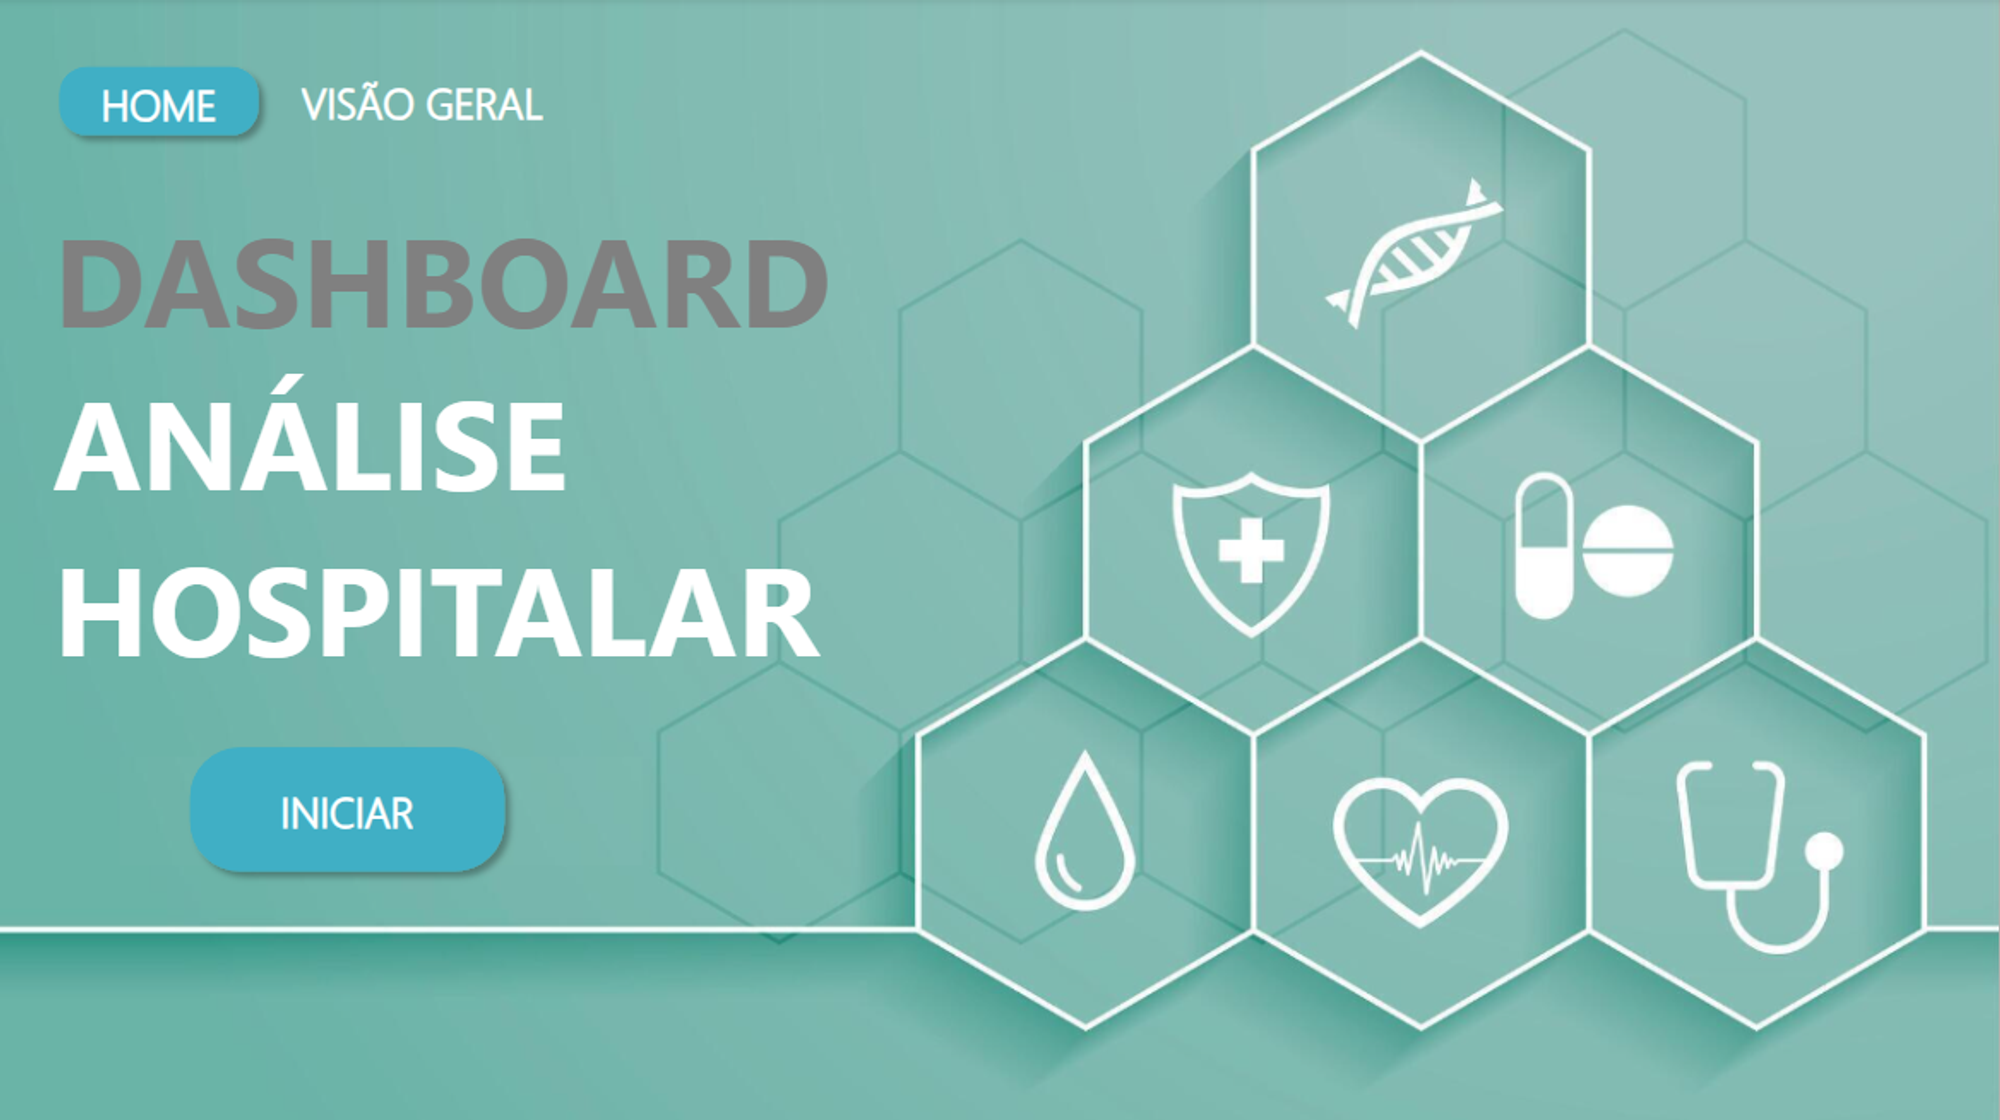

The dashboard page shown, as its layout file describes it:
{"tool":"powerbi","page":{"name":"Home","canvas":[1280,720],"ordinal":0},"visuals":[{"type":"textbox","box":[28.8,120.3,540.2,122],"z":0},{"type":"textbox","box":[28.8,224.5,560.8,231.7],"z":1000},{"type":"shape","box":[28.8,35.6,145.3,61.7],"z":2000},{"type":"shape","box":[183.7,35.6,172.8,61.7],"z":3000},{"type":"shape","box":[112.4,471.6,219.4,97.3],"z":4000},{"type":"actionButton","box":[183.7,46.6,172.8,41.1],"z":5000},{"type":"actionButton","box":[124.8,477.1,196.1,87.7],"z":6000}]}

Visuals, with their boxes in screenshot pixels (x1, y1, x2, y2), scaled from the page's 1280x720 canvas onto the 2000x1120 screenshot:
textbox: (45, 187, 889, 377)
textbox: (45, 349, 921, 710)
shape: (45, 55, 272, 151)
shape: (287, 55, 557, 151)
shape: (176, 734, 518, 885)
actionButton: (287, 72, 557, 136)
actionButton: (195, 742, 501, 879)
